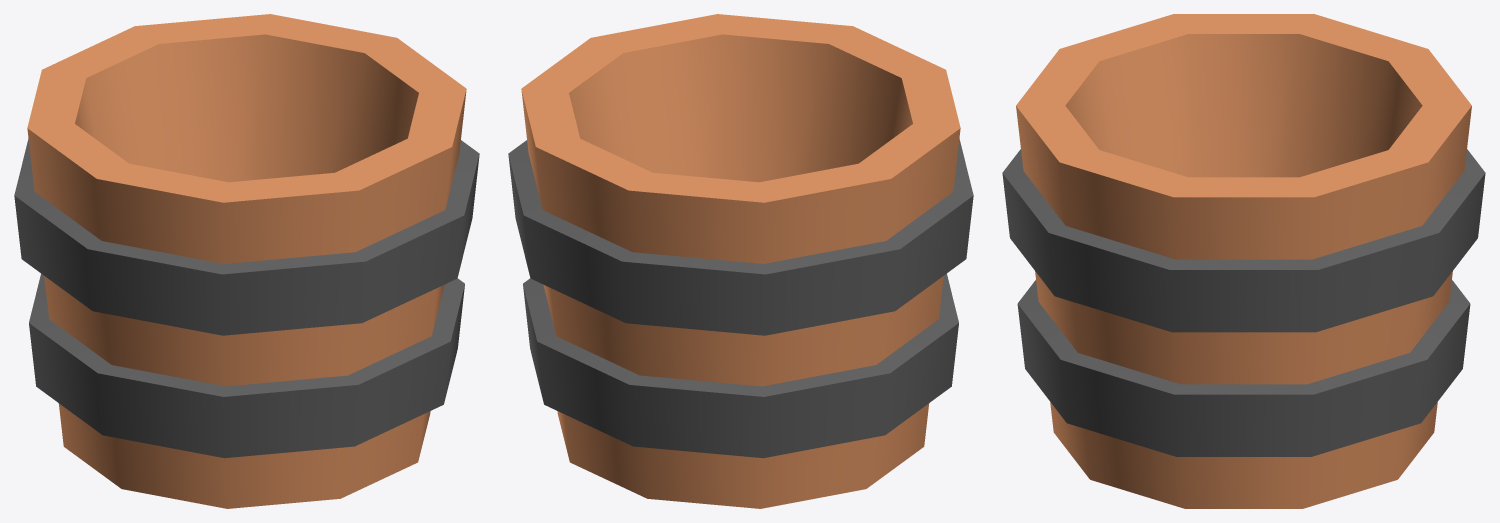
File: Bucket.fbx
The picture shows the model from 3 angles, left to right: view 1: azimuth 30°, elevation 25°; view 2: azimuth 150°, elevation 25°; view 3: azimuth 270°, elevation 25°; orthographic projection.
Visible parts, largest first — view 1: Bucket; view 2: Bucket; view 3: Bucket.
Part boxes in pixels (x1,y1,x2,y2): Bucket: [14, 14, 479, 508]; Bucket: [508, 14, 973, 508]; Bucket: [1002, 14, 1485, 508].
Size of the model in its own units: 73.94 by 58.03 by 77.75.
